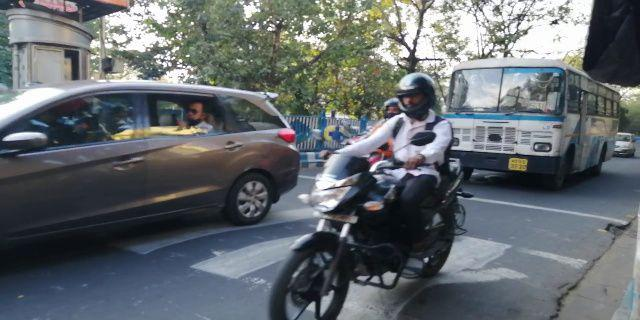Bus: (444, 55, 618, 188)
Car: (1, 76, 297, 235), (614, 131, 634, 161)
Motorbike: (261, 70, 467, 316)
